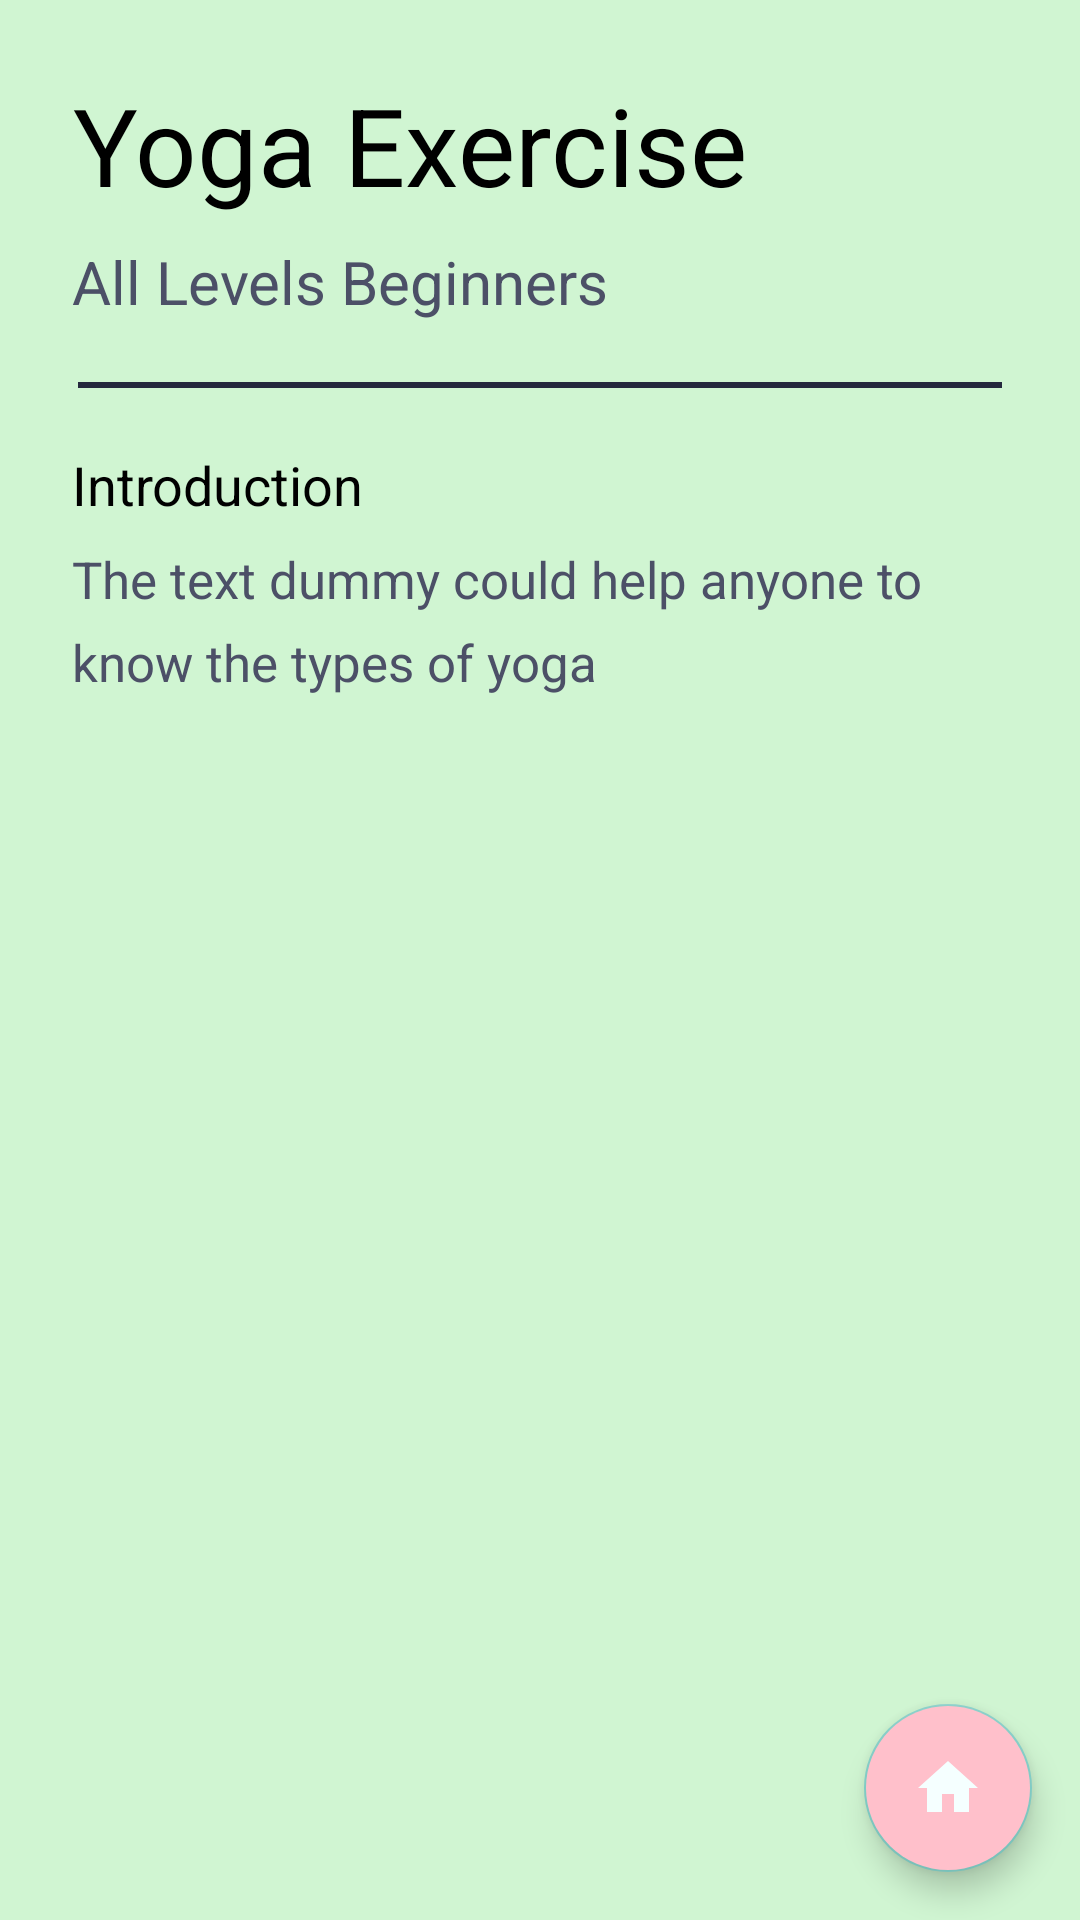

Locate icon controls on the screen. Image size 1080px×1920px, boxes as detection(x1, y1, x2, y2).
home: detection(864, 1704, 1032, 1872)
